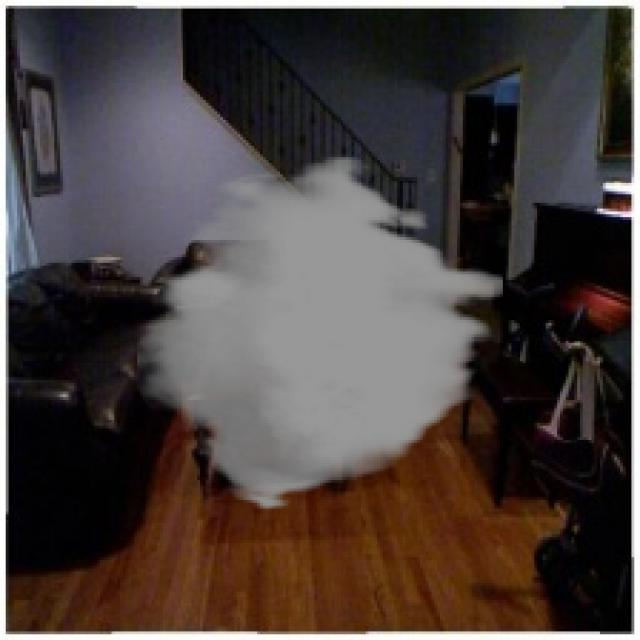Smoke: (137, 154, 503, 512)
